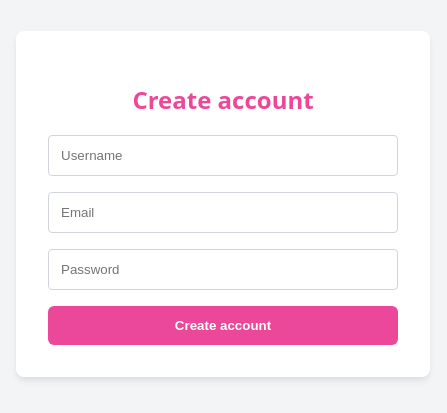
Scenario: RegisterForm › should show error when email field is empty
The width and height of the screenshot is (447, 413).
Type "testuser" into the field with placeholder "Username" at x=223, y=156, box x1=48 y1=135 x2=398 y2=176
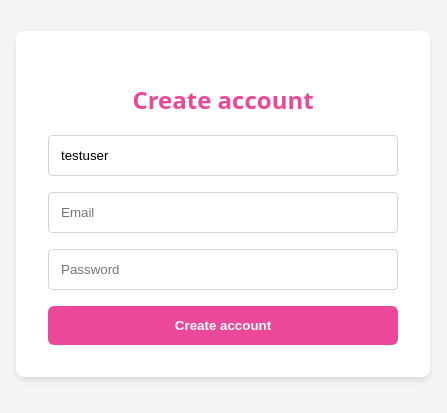
Type "password123" into the password field with placeholder "Password" at x=223, y=270, box x1=48 y1=249 x2=398 y2=290
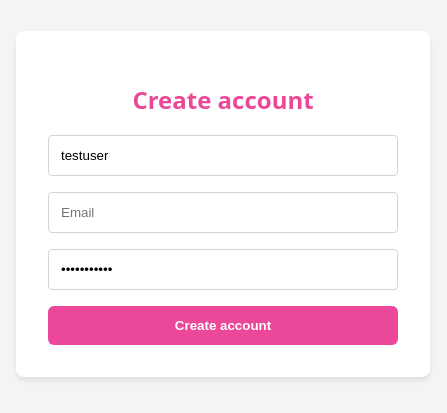
Click the button "Create account" at x=223, y=326, box x1=48 y1=306 x2=398 y2=345
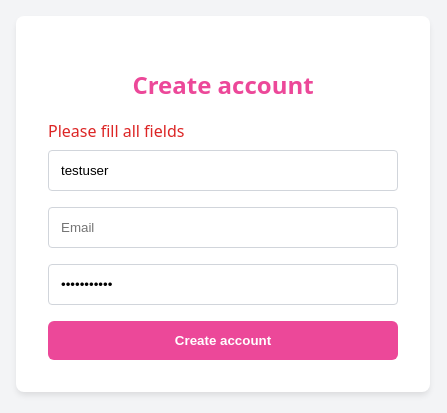
Check: the text "Please fill all fields" is shown, box x1=48 y1=120 x2=184 y2=142
